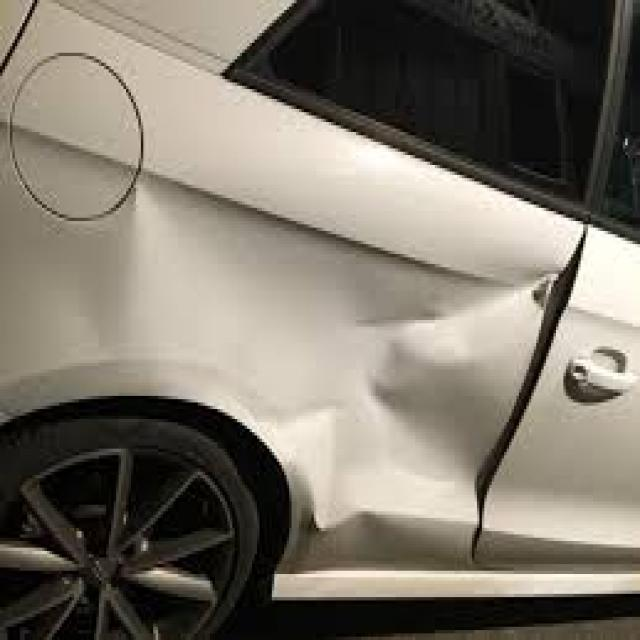minor: (200, 161, 586, 556)
